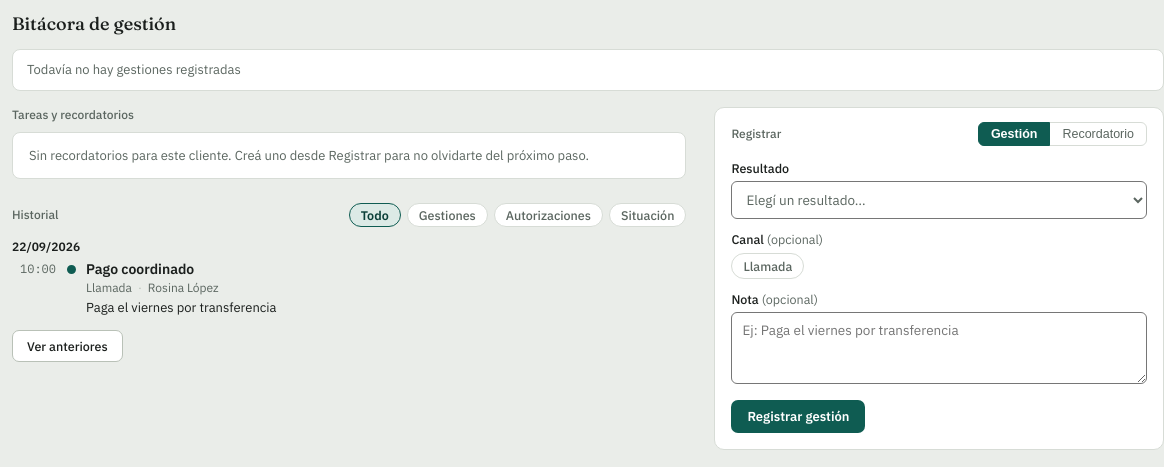
BitacoraActividad — Bitácora v2 › 'Ver anteriores' agrega la página siguiente al final
Click the button "Ver anteriores".
click(67, 346)  # box top-left (12, 330), bottom-right (123, 362)
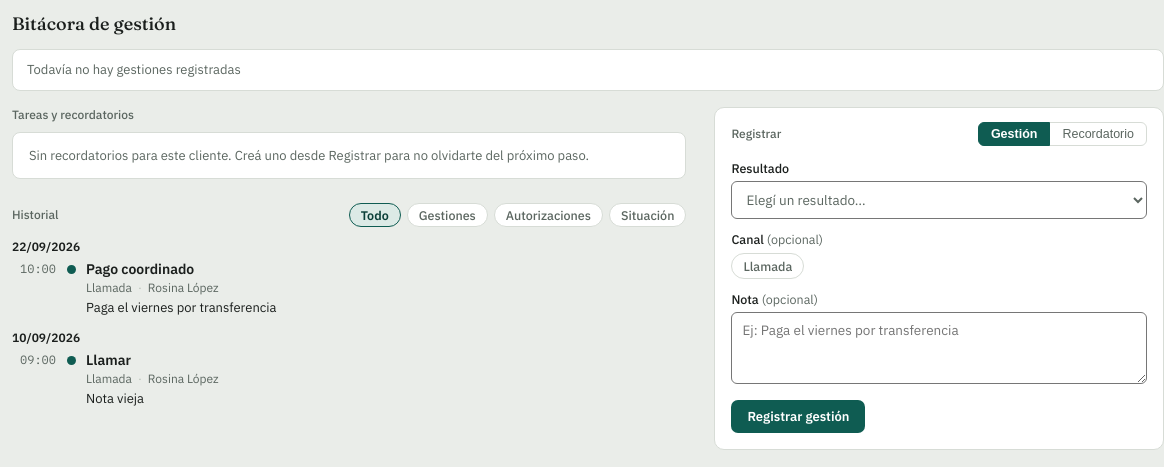
Check: the text "Paga el viernes por transferencia" is shown, box top-left (86, 298), bottom-right (276, 316)
Check: the text "Nota vieja" is shown, box top-left (86, 390), bottom-right (144, 406)
Check: the button "Ver anteriores" is gone
